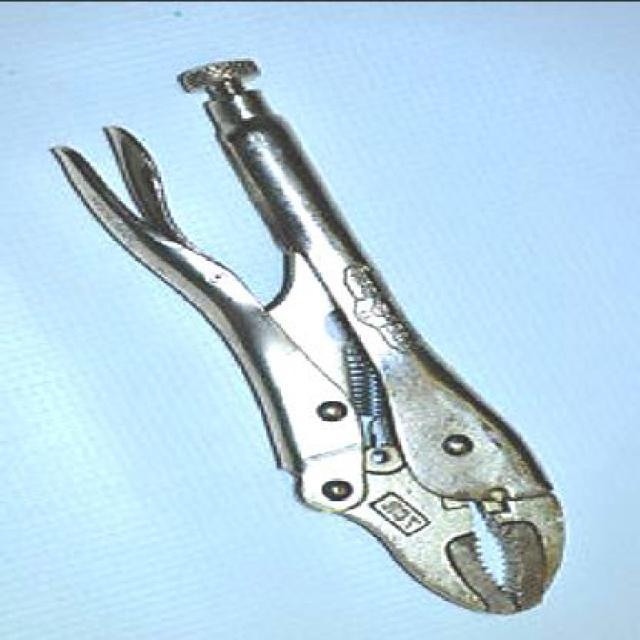pliers: (46, 59, 572, 616)
